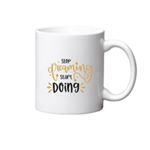cups: (31, 23, 139, 120)
